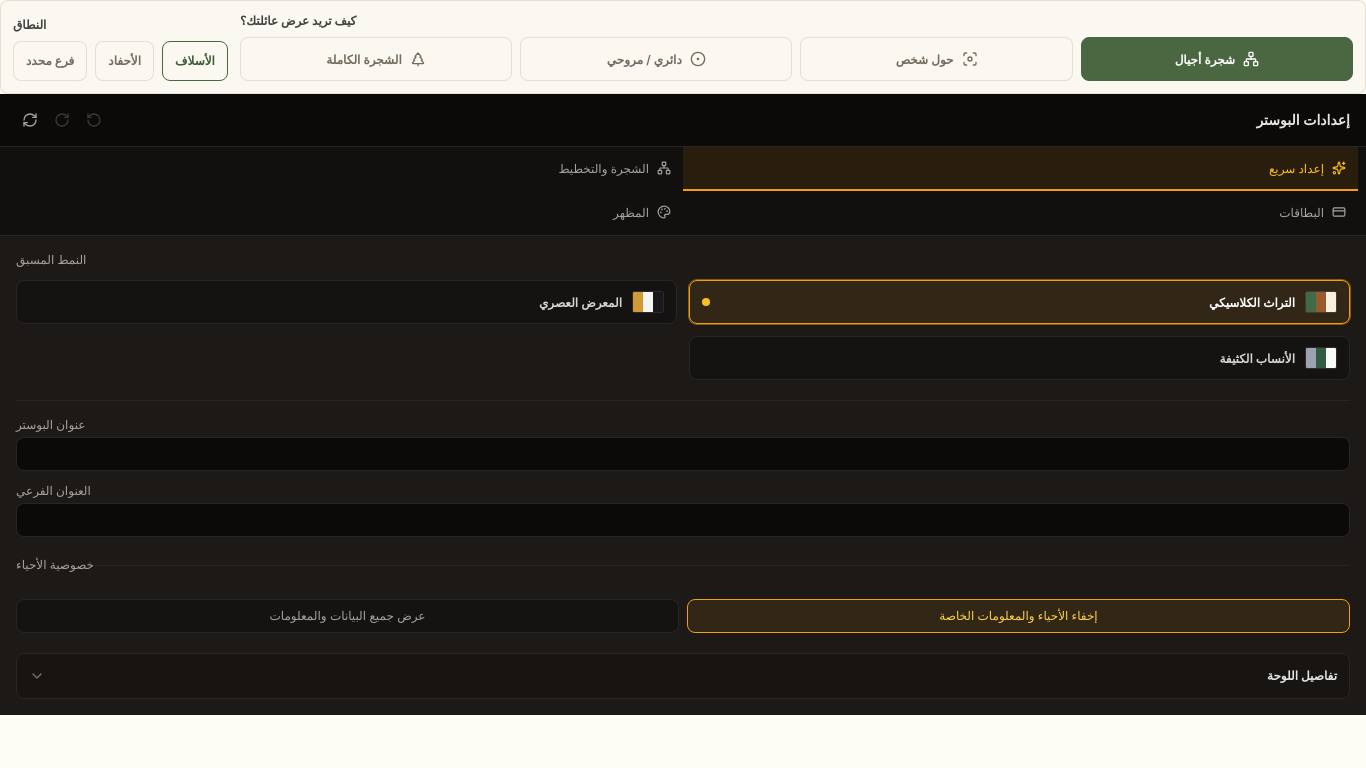
VisualPublishingStudio Accessibility & Interaction Suite › declares toggle, segmented button, and checkbox states using aria-pressed and checked
This screenshot has width=1366, height=768.
Click the tab "البطاقات".
click(1302, 212)  # box x1=683 y1=191 x2=1358 y2=235
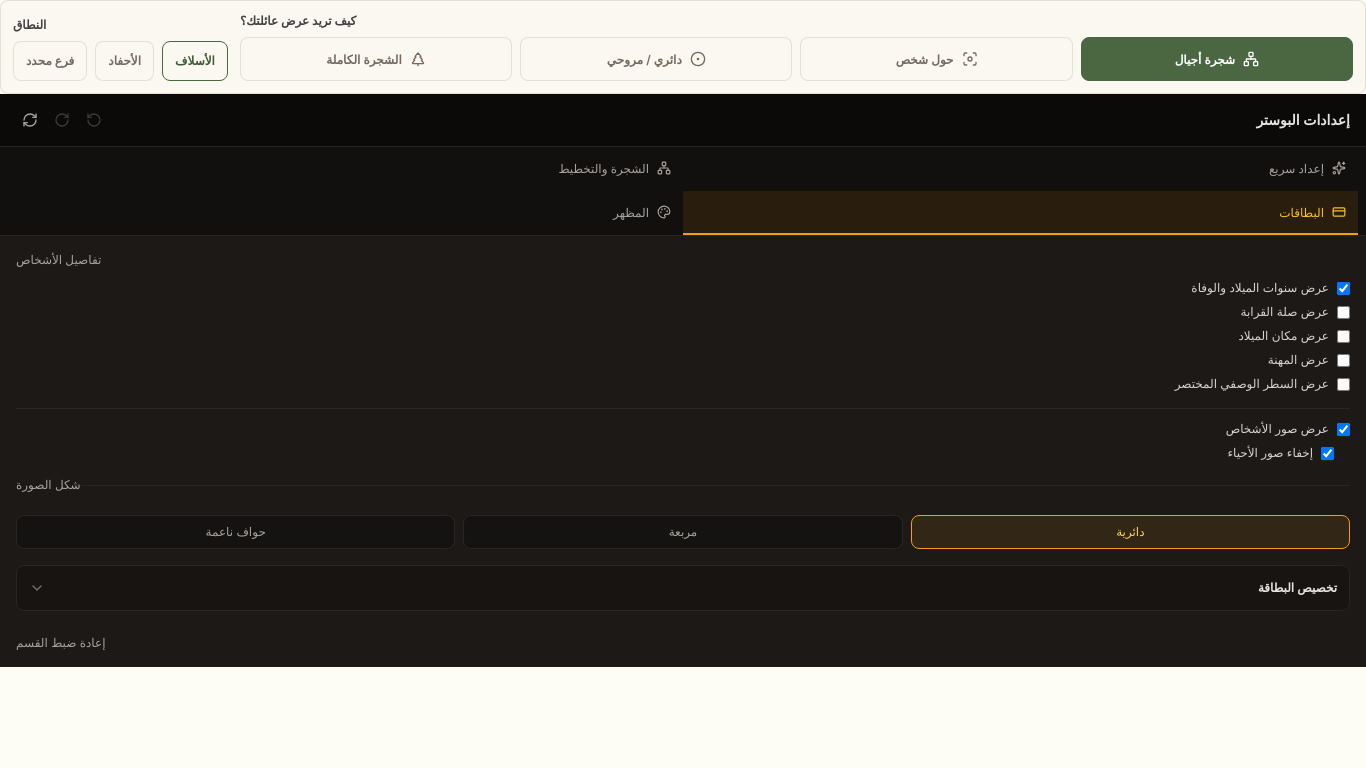
Check: the checkbox labelled "عرض سنوات الميلاد والوفاة" is checked, box x1=1337 y1=282 x2=1350 y2=294
Check: the checkbox labelled "عرض مكان الميلاد" is not checked, box x1=1337 y1=330 x2=1350 y2=342
